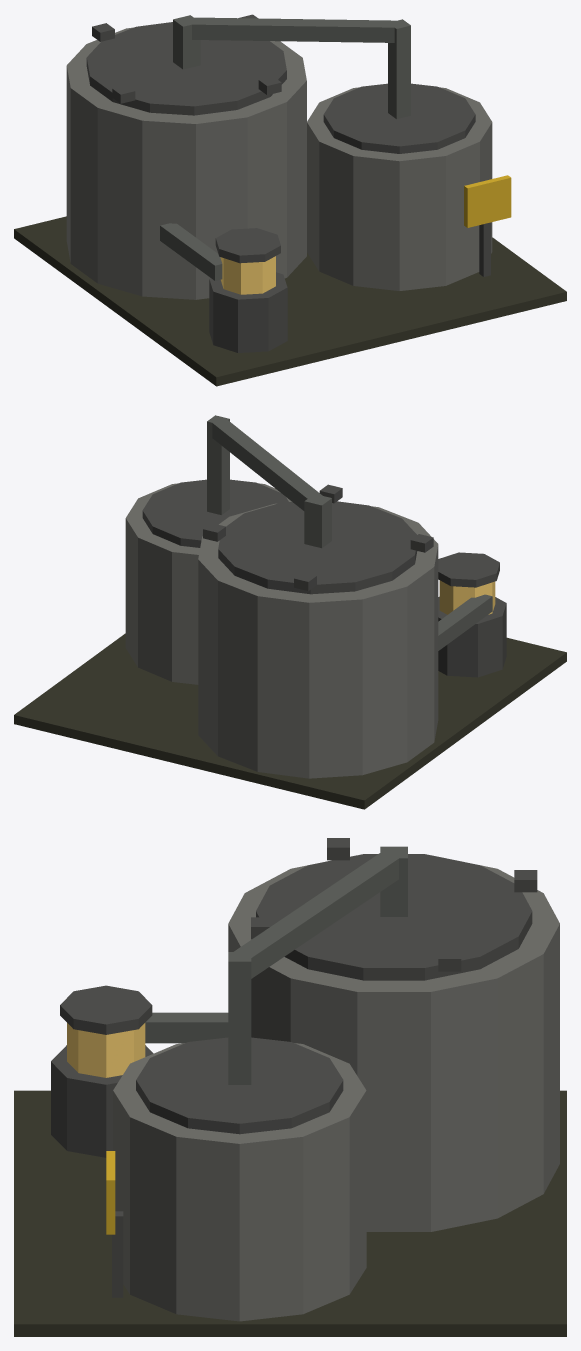
File: quest_infinite_chemreactor.obj
The picture shows the model from 3 angles, top to bottom: view 1: azimuth 30°, elevation 25°; view 2: azimuth 150°, elevation 25°; view 3: azimuth 270°, elevation 25°; orthographic projection. The views are drawn at different scales.
Visible parts, largest first — view 1: quest_infinite_chemreactor; view 2: quest_infinite_chemreactor; view 3: quest_infinite_chemreactor.
Part boxes in pixels (left/top/right/bottom): quest_infinite_chemreactor: left=14, top=14, right=566, bottom=386; quest_infinite_chemreactor: left=14, top=415, right=566, bottom=809; quest_infinite_chemreactor: left=14, top=838, right=566, bottom=1336.
Bounding box in the file's own units: 2.4 × 1.55 × 2.4.
